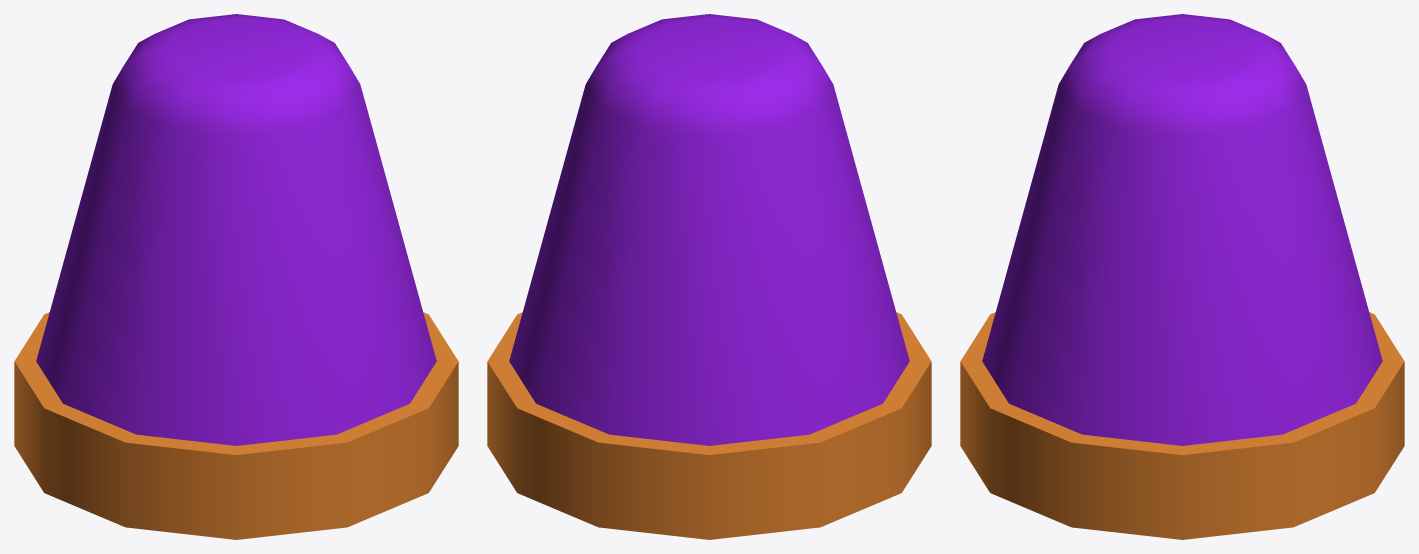
The model's file is Alarm.fbx.
3 views of the same model, side by side, from view 1: azimuth 30°, elevation 25°; view 2: azimuth 150°, elevation 25°; view 3: azimuth 270°, elevation 25° (orthographic).
Parts seen in each view (by area): view 1: Cylinder.021; view 2: Cylinder.021; view 3: Cylinder.021.
Boxes of the visible parts, <box> form: Cylinder.021: <box>14,14,458,539</box>; Cylinder.021: <box>487,14,931,539</box>; Cylinder.021: <box>960,14,1404,539</box>.
Size of the model in its own units: 0.4677 by 0.461 by 0.4677.
